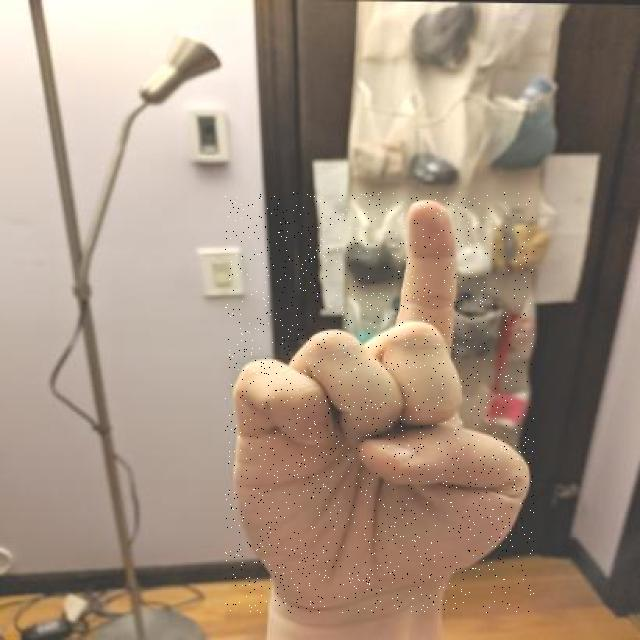D: (225, 192, 534, 613)
